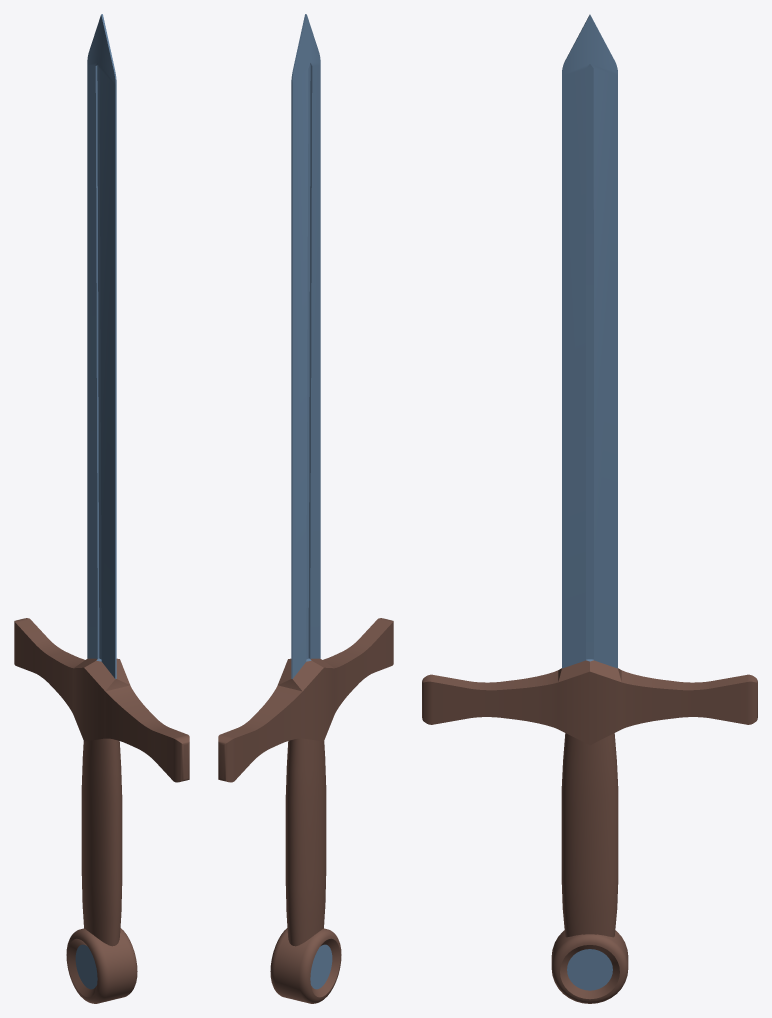
File: BasicSword.fbx
3 renders of one model, left to right at view 1: azimuth 30°, elevation 25°; view 2: azimuth 150°, elevation 25°; view 3: azimuth 270°, elevation 25°, orthographic.
Parts seen in each view (by area): view 1: Cube; view 2: Cube; view 3: Cube.
Part boxes in pixels (x1,y1,x2,y2): Cube: (14, 14, 189, 1003); Cube: (218, 14, 393, 1003); Cube: (422, 14, 757, 1003).
Bounding box in the file's own units: 3.39 × 82.1 × 25.42.
